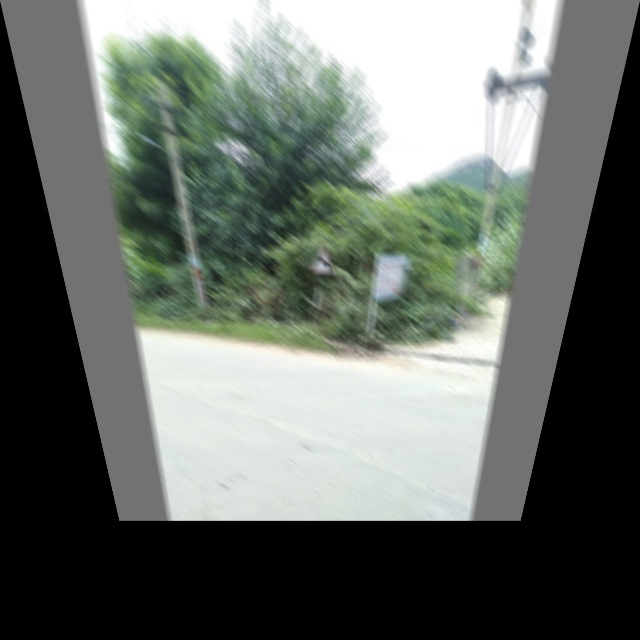Left_Hand_Curve: (310, 244, 337, 275)
